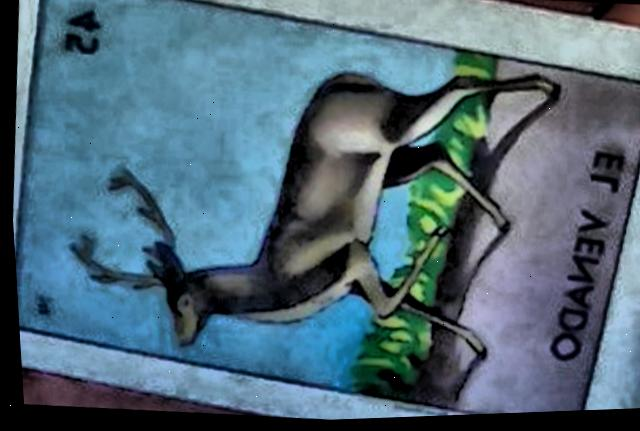El Venado: (12, 0, 640, 417)
